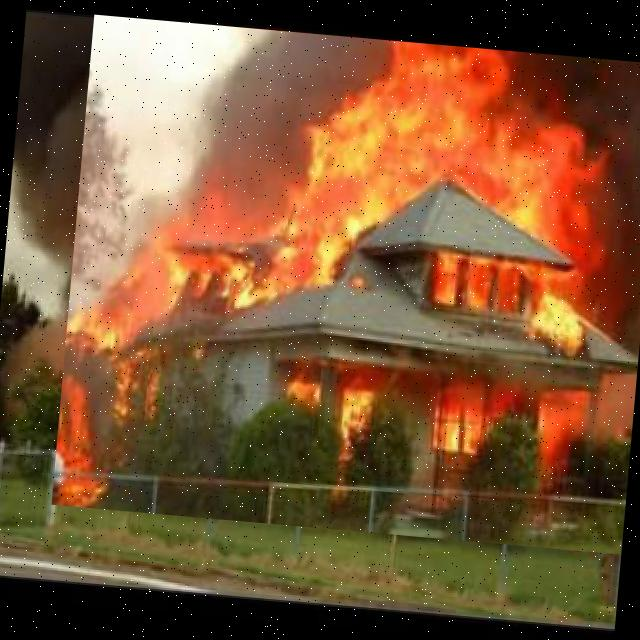fire: (51, 14, 640, 554)
